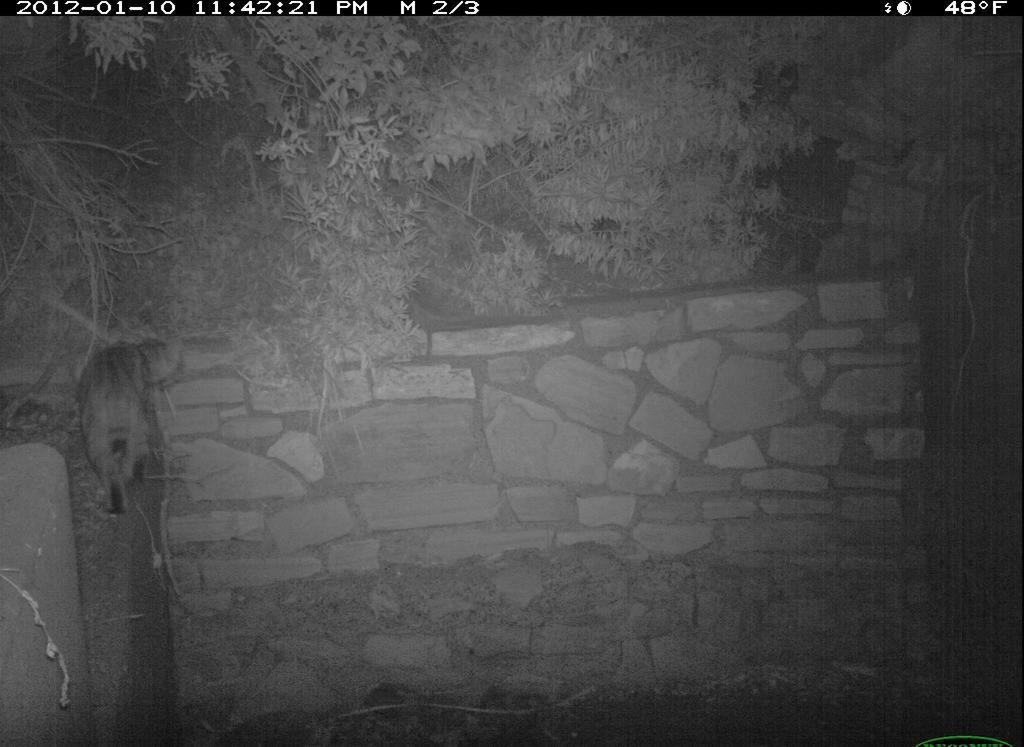bobcat: (75, 323, 184, 523)
